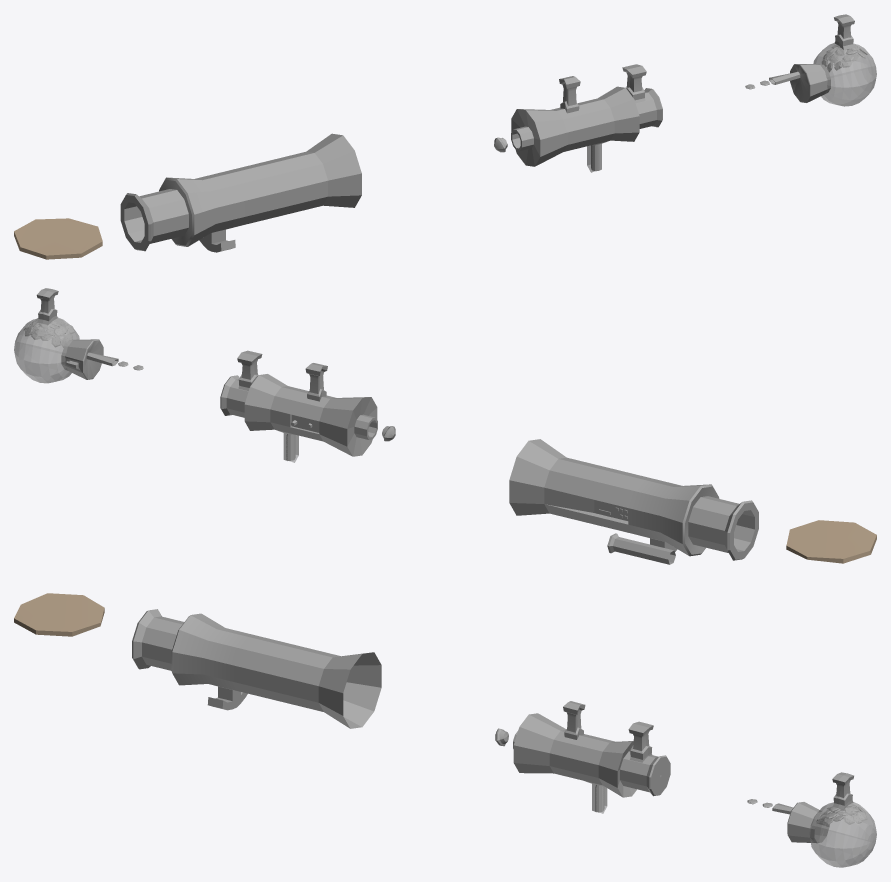
Rendered from Weapons.fbx.
3 views of the same model, one above another, from view 1: azimuth 30°, elevation 25°; view 2: azimuth 150°, elevation 25°; view 3: azimuth 330°, elevation 25° (orthographic). The views are drawn at different scales.
Parts seen in each view (by area): view 1: polySurface441, pSphere47, polySurface445, pSphere48; view 2: polySurface441, pSphere47, polySurface445, pSphere48; view 3: polySurface441, pSphere47, polySurface445, pSphere48.
Part boxes in pixels (box(x1,y1,x2,y2)): polySurface441: box(120, 133, 361, 252); pSphere47: box(494, 64, 662, 172); polySurface445: box(745, 14, 876, 106); pSphere48: box(14, 218, 102, 259); polySurface441: box(509, 439, 758, 564); pSphere47: box(220, 350, 395, 462); polySurface445: box(14, 288, 143, 383); pSphere48: box(786, 520, 876, 563); polySurface441: box(132, 609, 381, 728); pSphere47: box(495, 701, 670, 813); polySurface445: box(747, 772, 876, 867); pSphere48: box(14, 593, 104, 636).
Size of the model in its own units: 8.81 by 1.01 by 1.06.
